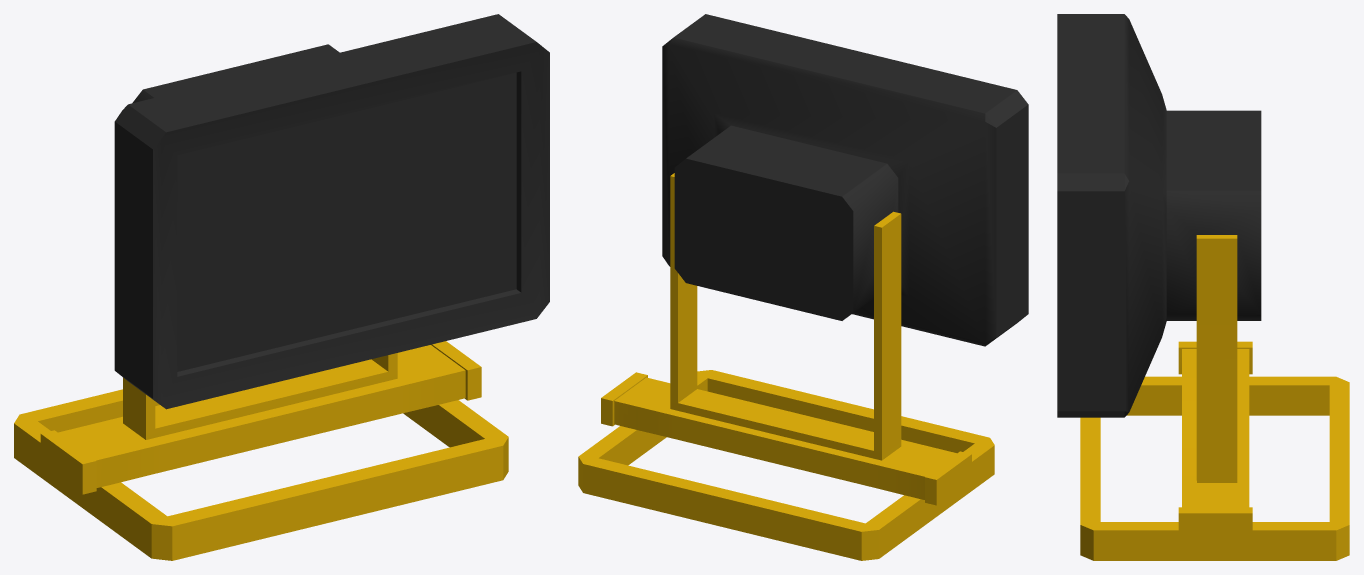
Rendered from Spotlight.FBX.
3 renders of one model, left to right at view 1: azimuth 30°, elevation 25°; view 2: azimuth 150°, elevation 25°; view 3: azimuth 270°, elevation 25°, orthographic. The views are drawn at different scales.
Parts seen in each view (by area): view 1: Lamp, Stand; view 2: Lamp, Stand; view 3: Lamp, Stand.
Boxes of the visible parts, x1,y1,x2,y2 form: Lamp: (114, 14, 549, 409); Stand: (14, 341, 508, 560); Lamp: (662, 14, 1028, 346); Stand: (578, 173, 994, 560); Lamp: (1057, 14, 1261, 417); Stand: (1080, 235, 1349, 560).
Size of the model in its own units: 17.84 by 18.93 by 12.85.
